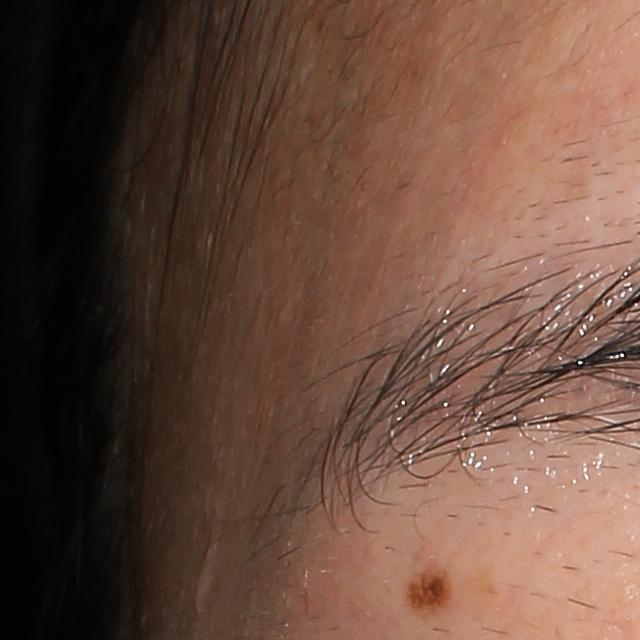nevus: (402, 559, 456, 619)
